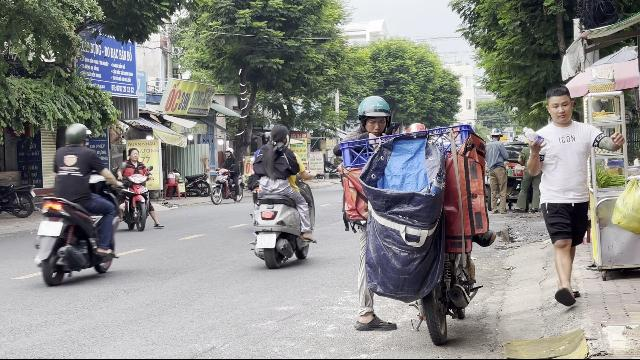helmet: (64, 122, 88, 146)
licenseplate: (37, 221, 63, 236), (256, 234, 276, 248)
motorcyclist: (34, 121, 120, 285), (247, 121, 317, 268), (115, 146, 158, 232)
nohelmet: (270, 124, 290, 144), (126, 146, 140, 162)
